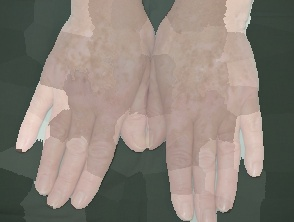vitiligo: (144, 27, 266, 212), (24, 10, 156, 161)
